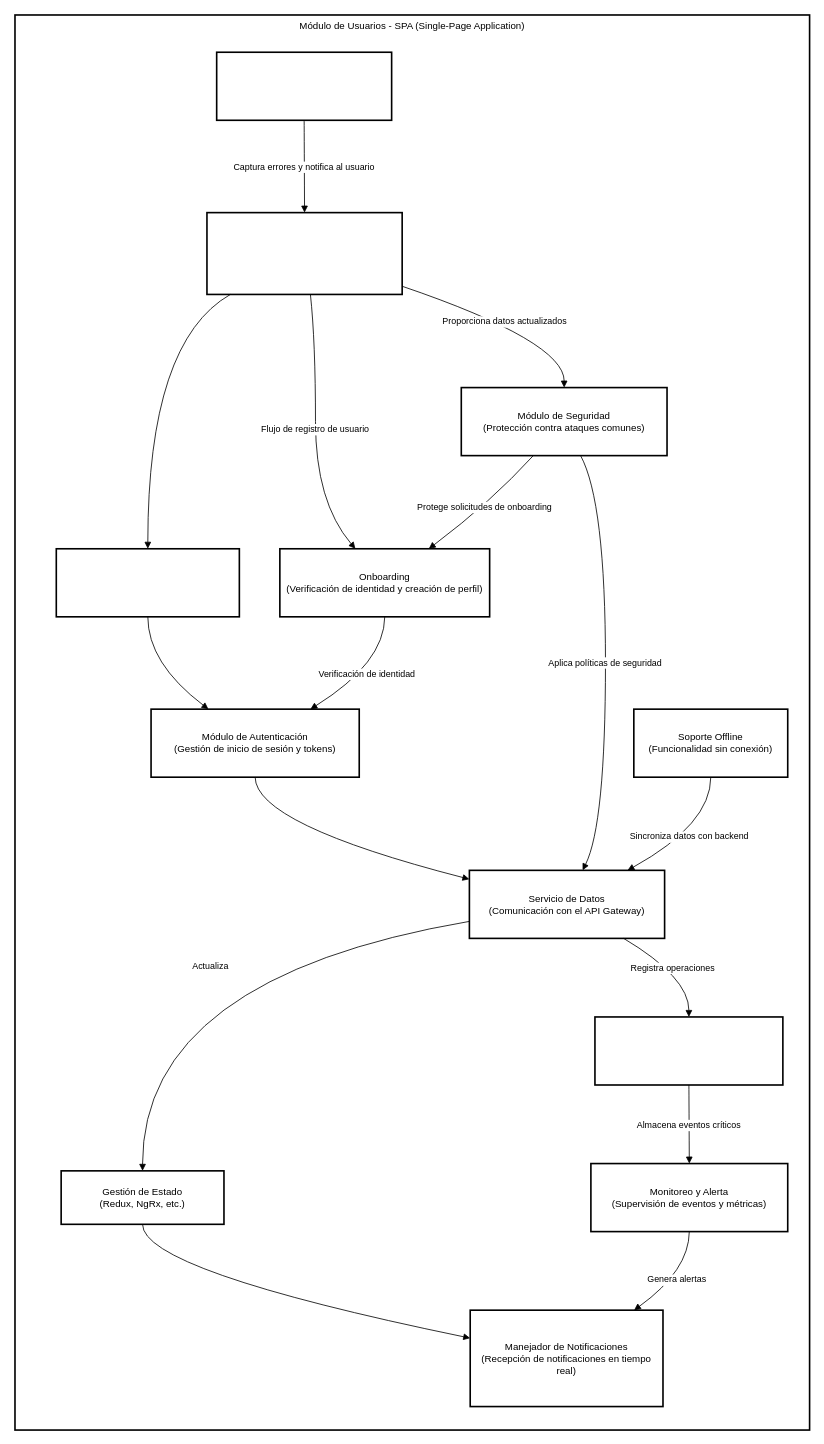
This 824x1444 diagram has some shape labels left out. Here are the shapes that lost their labels. From the top down, the centre of each, then its label:
the point at 303,86: Manejador de Errores (Captura y manejo de errores)
the point at 304,253: Componentes de Interfaz de Usuario (Formularios, botones, menús)
the point at 147,582: Enrutador (Control de navegación entre páginas)
the point at 688,1050: Auditoría (Registro de actividades para cumplimiento)
